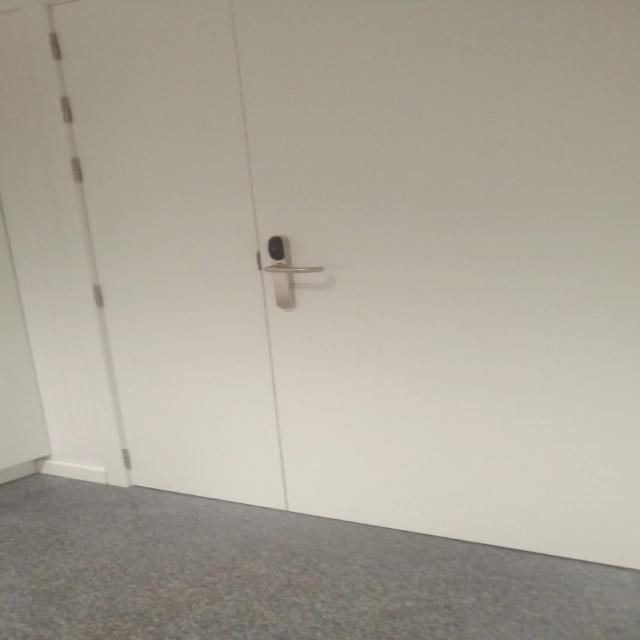door_handle: (257, 263, 329, 275)
